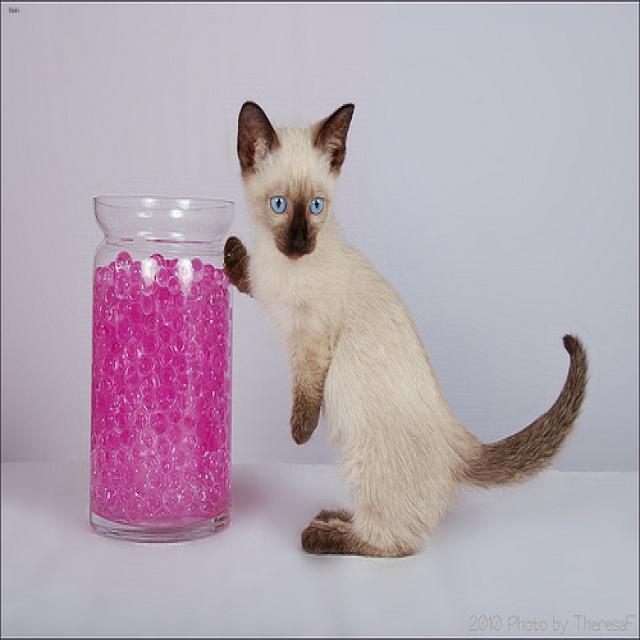Siamese: (234, 97, 352, 256)
